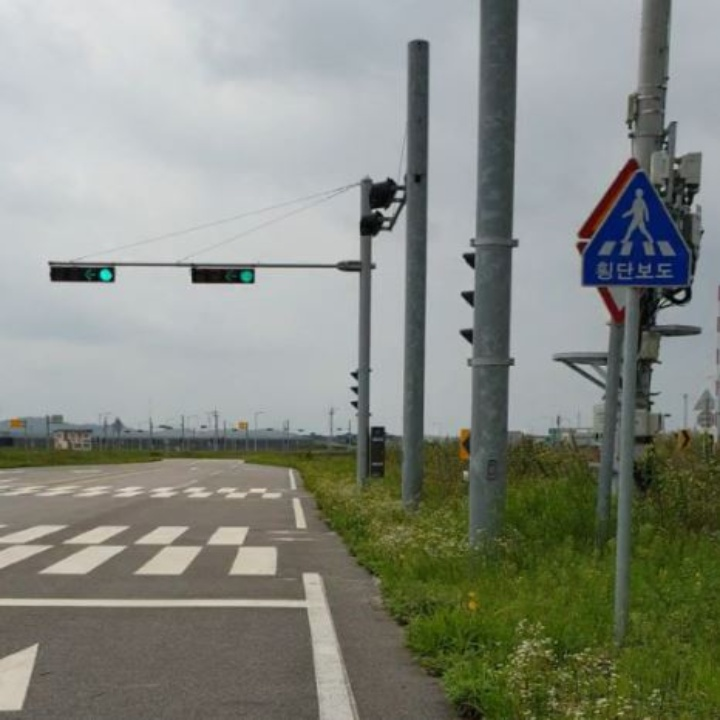cross: (617, 179, 663, 252)
